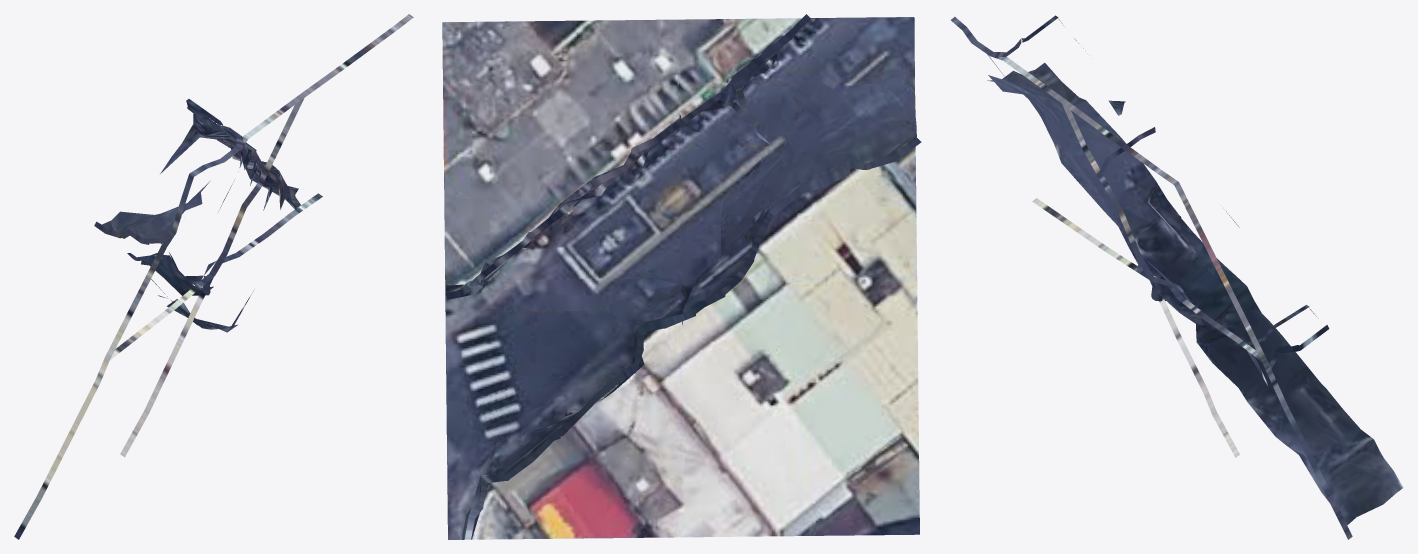
3 renders of one model, left to right at view 1: azimuth 30°, elevation 25°; view 2: azimuth 150°, elevation 25°; view 3: azimuth 270°, elevation 25°, orthographic. The views are drawn at different scales.
Size of the model in its own units: 38.27 by 37.42 by 35.48.
1 material, 1 textured.
